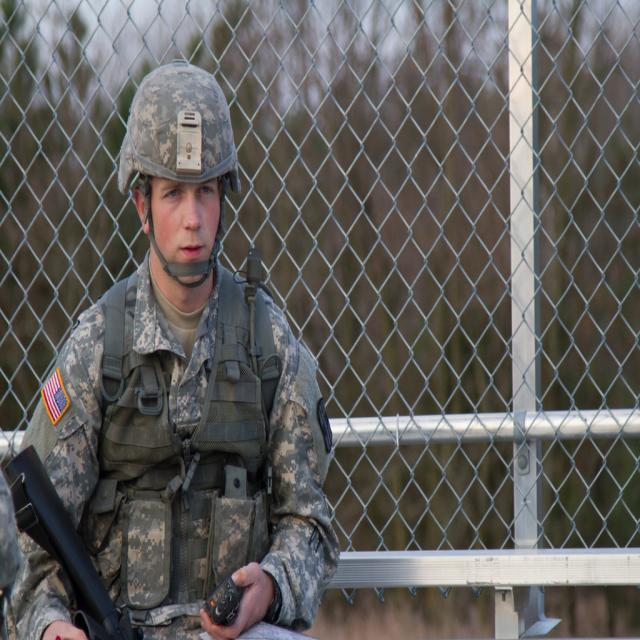weapon: (3, 442, 141, 640)
